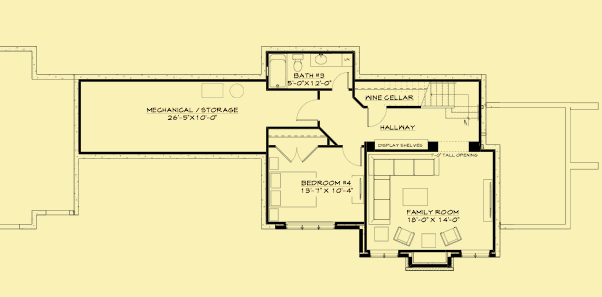bed: (270, 168, 321, 210)
door: (272, 141, 321, 163), (294, 97, 321, 124), (339, 142, 364, 167), (365, 104, 390, 128), (330, 70, 352, 93)
large sink: (288, 51, 306, 73)
large sofa: (368, 150, 442, 177), (371, 177, 394, 228)
small sink: (309, 51, 346, 70)
small sofa: (438, 224, 464, 247), (393, 226, 415, 247)
stairs: (421, 82, 479, 124)
tub: (266, 54, 290, 88)
windows: (282, 220, 338, 233), (460, 247, 494, 260), (367, 248, 400, 261)
